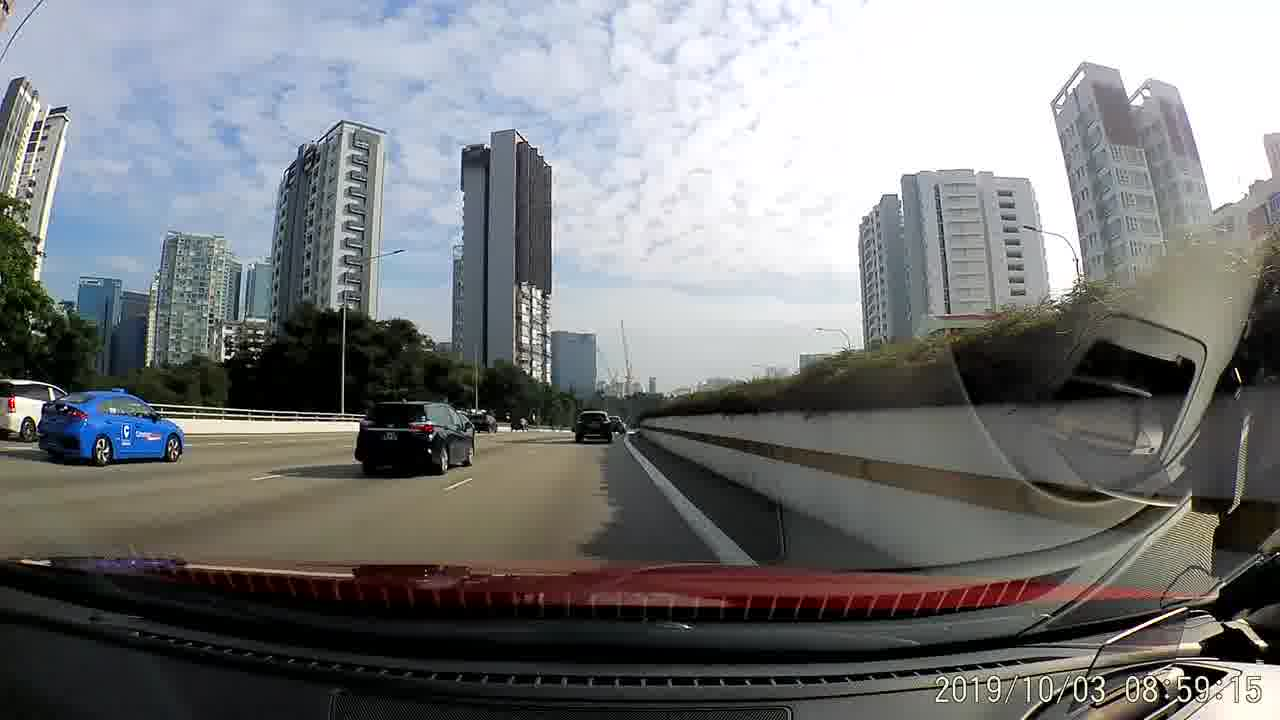car: (38, 387, 184, 464), (354, 397, 476, 479), (3, 376, 70, 445), (573, 407, 614, 444), (472, 409, 498, 433), (508, 414, 528, 430)
